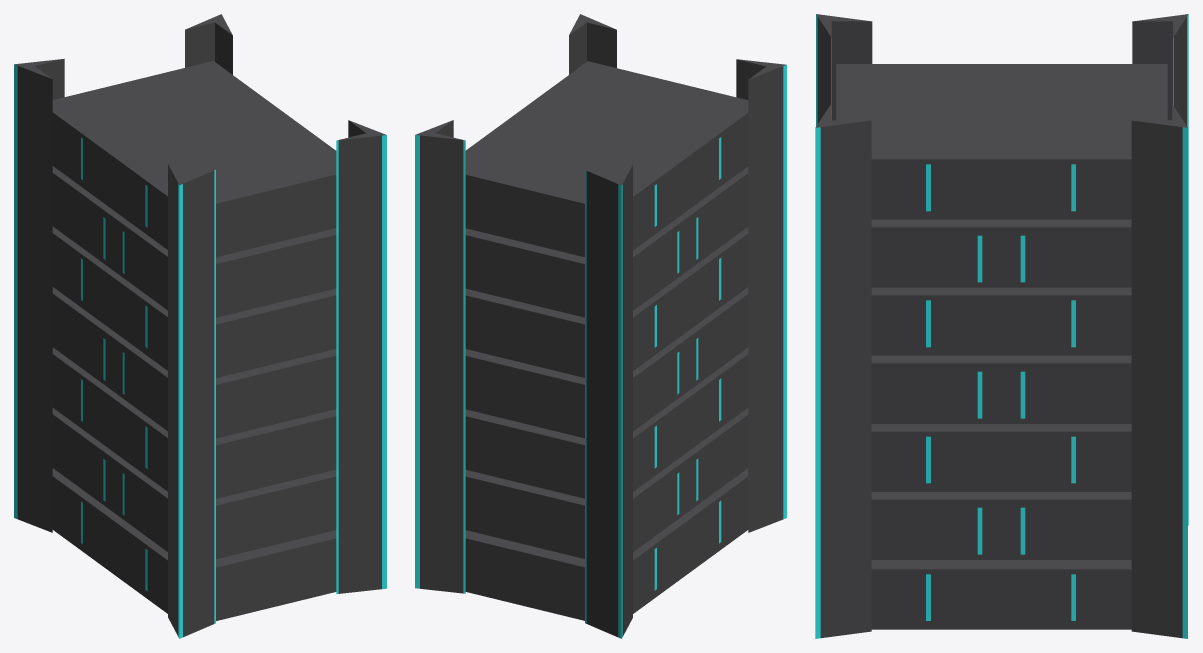
File: Tron3.fbx
The picture shows the model from 3 angles, left to right: view 1: azimuth 30°, elevation 25°; view 2: azimuth 150°, elevation 25°; view 3: azimuth 270°, elevation 25°; orthographic projection. The views are drawn at different scales.
Visible parts, largest first — view 1: Group6, Group8, Group5, Group3, Group4, Group7, Group2; view 2: Group6, Group8, Group2, Group4, Group3, Group7, Group5; view 3: Group6, Group8, Group2, Group5, Group7, Group4, Group3.
Part boxes in pixels (x1,y1,x2,y2): Group6: [52, 226, 336, 620]; Group8: [52, 61, 336, 257]; Group5: [336, 120, 386, 594]; Group3: [168, 164, 215, 638]; Group4: [14, 58, 64, 532]; Group7: [52, 166, 336, 317]; Group2: [185, 14, 232, 74]; Group6: [465, 227, 748, 620]; Group8: [465, 61, 748, 257]; Group2: [415, 120, 465, 593]; Group4: [585, 164, 632, 638]; Group3: [736, 59, 786, 532]; Group7: [465, 166, 748, 317]; Group5: [569, 14, 616, 74]; Group6: [871, 287, 1131, 629]; Group8: [836, 64, 1167, 219]; Group2: [1131, 104, 1187, 638]; Group5: [815, 104, 871, 638]; Group7: [871, 219, 1131, 287]; Group4: [1132, 14, 1188, 525]; Group3: [816, 14, 872, 126].
Bounding box in the file's own units: 4758 × 9956 × 6591.
